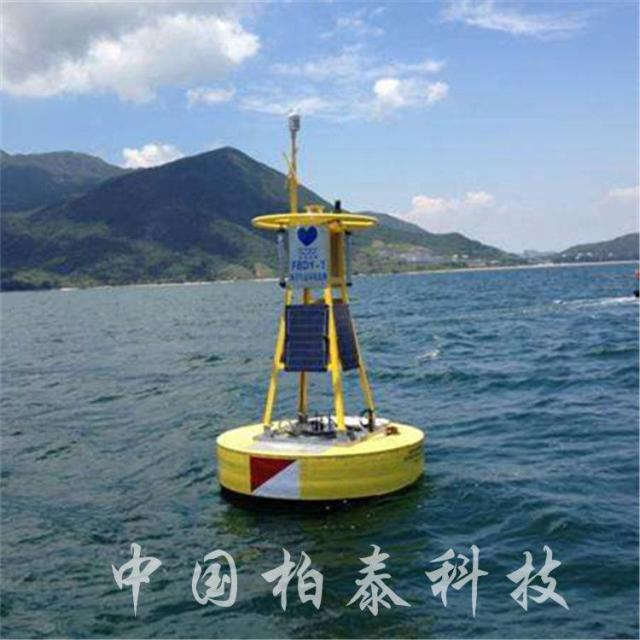buoy: (214, 105, 425, 502)
